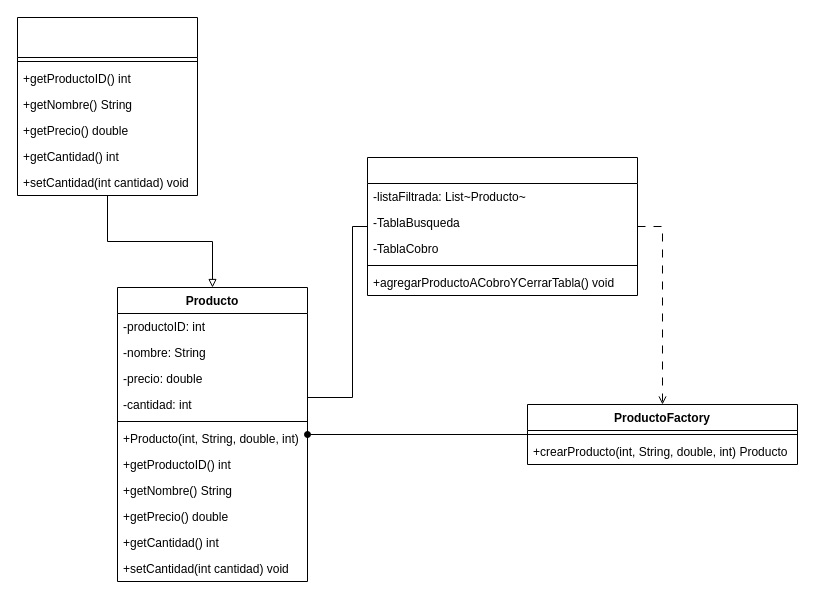
This 815x602 diagram has some shape labels left out. The shapes that lost their labels are listed below. From the top down, each one's box as (x1, y1, x2, y2) in pixels, then its label:
(16, 16, 198, 196): <<Interface>> Producto2
(366, 156, 638, 296): Venta
